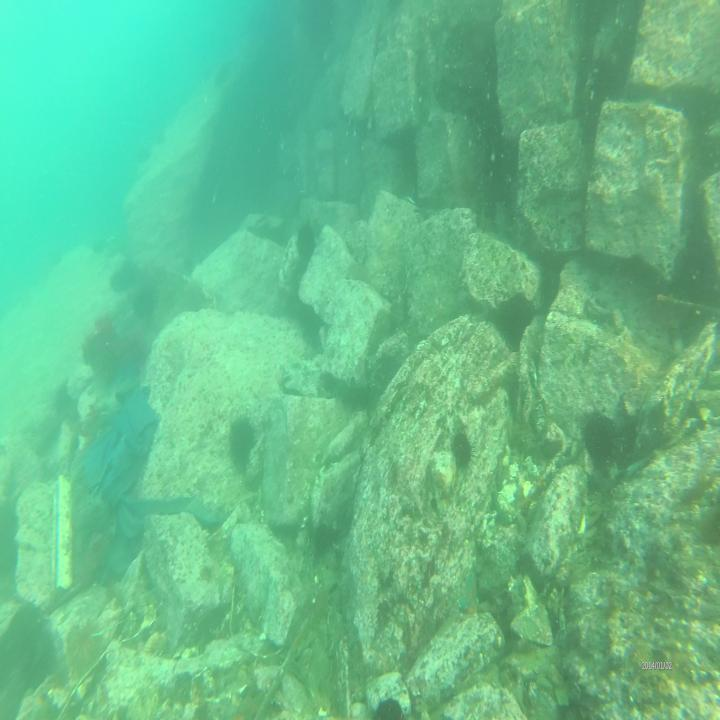echinus: (67, 620, 105, 680), (225, 412, 259, 468), (584, 410, 614, 462), (449, 427, 473, 473), (294, 222, 316, 261)
starfish: (456, 568, 481, 622)
